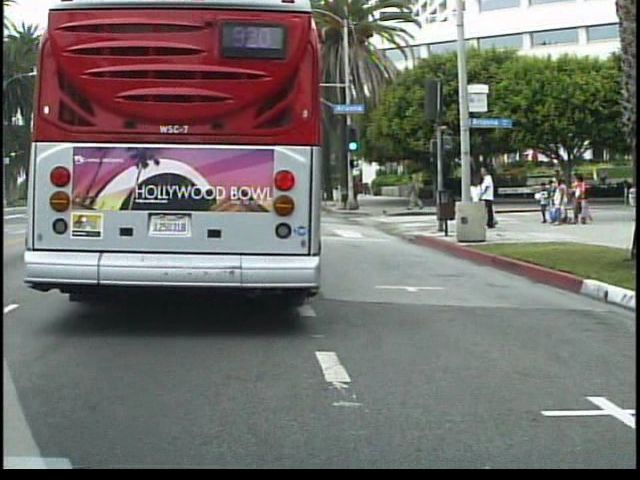person: (478, 162, 502, 232), (466, 172, 487, 225), (406, 172, 425, 214)
